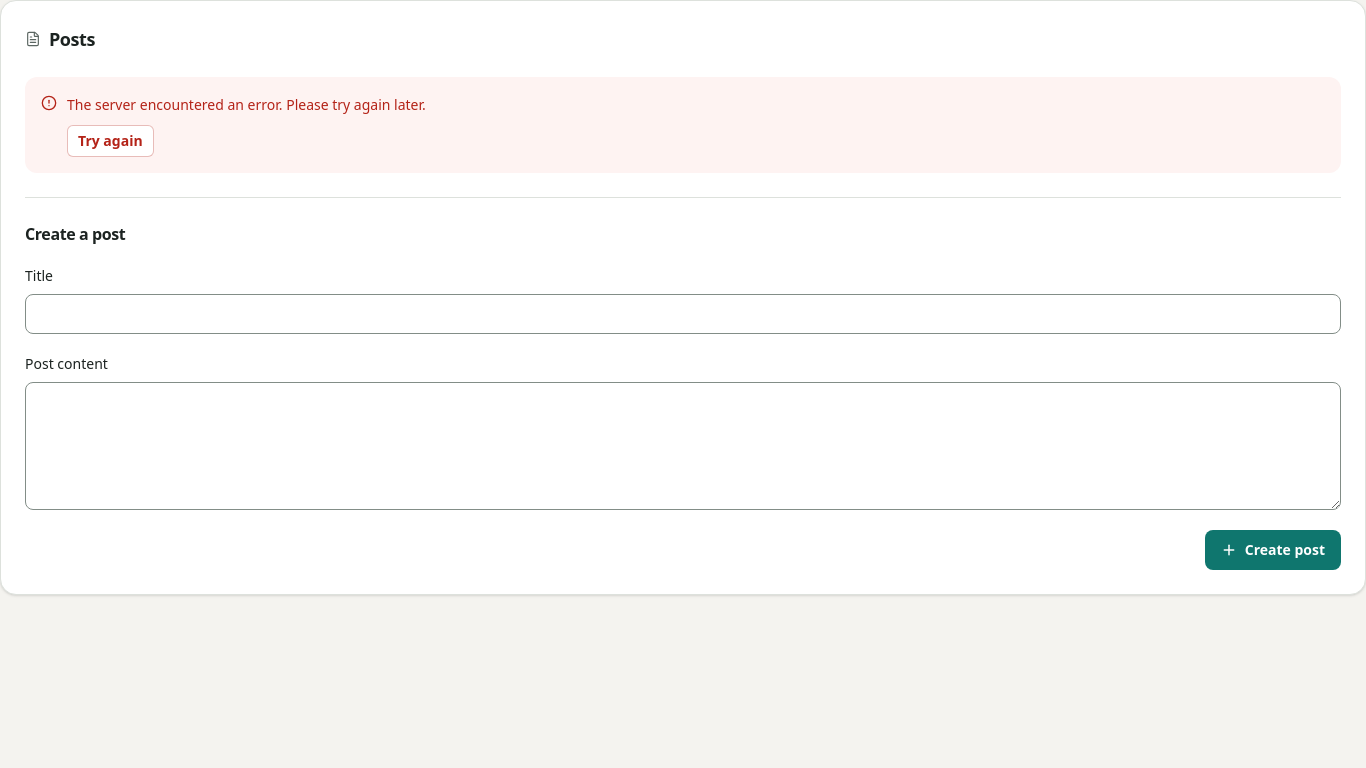
PostsPanel › retries loading posts from the error state
Expected: the message reads "The server encountered an error. Please try again later.", [67,95,426,114]
Click the button "Try again" at (110, 141), box [67,125,154,157]
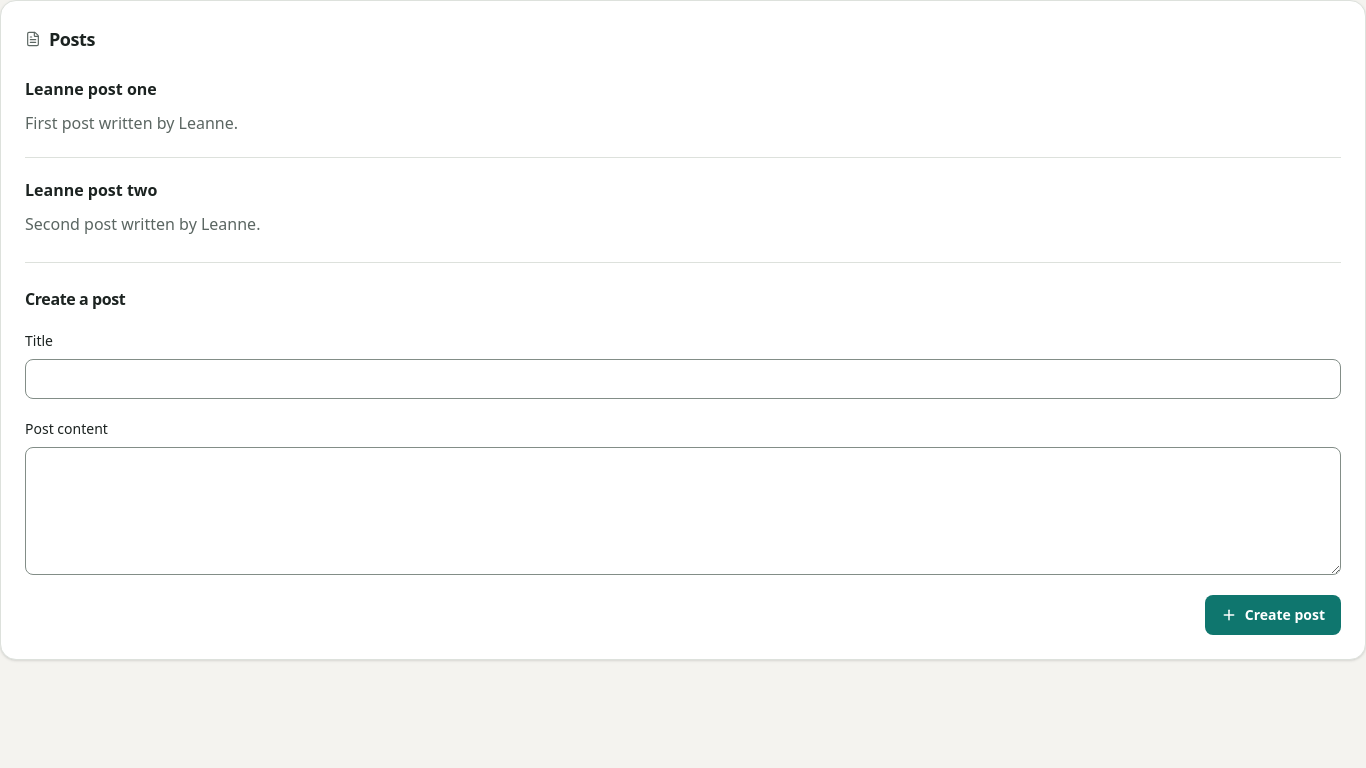
Result: the heading "Leanne post one" is shown at [25,78,157,100]
